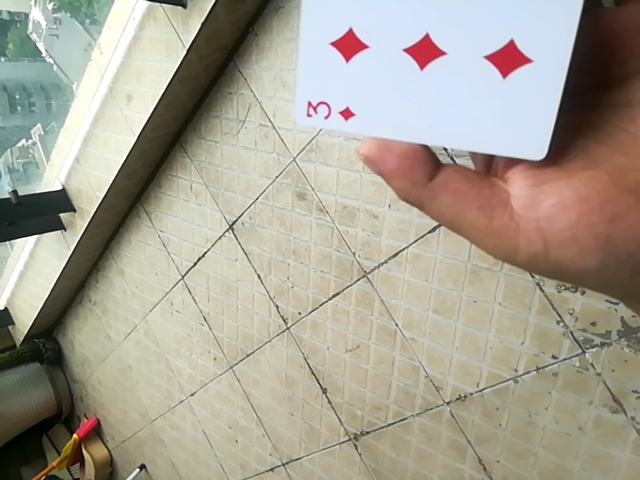fk 3: (286, 0, 596, 166)
